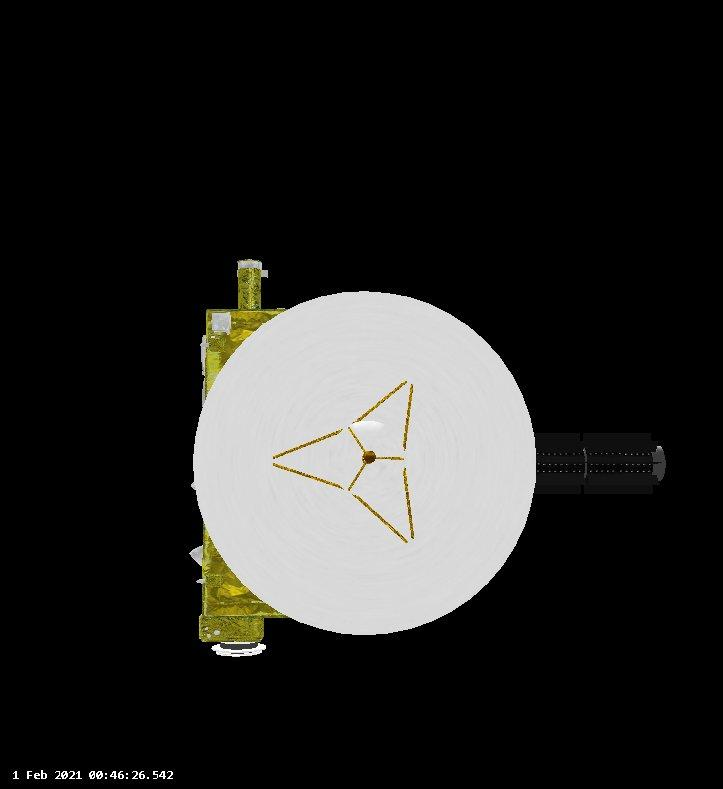antenna: (192, 283, 542, 640), (324, 419, 411, 501), (208, 637, 271, 662)
body: (198, 247, 292, 647)
